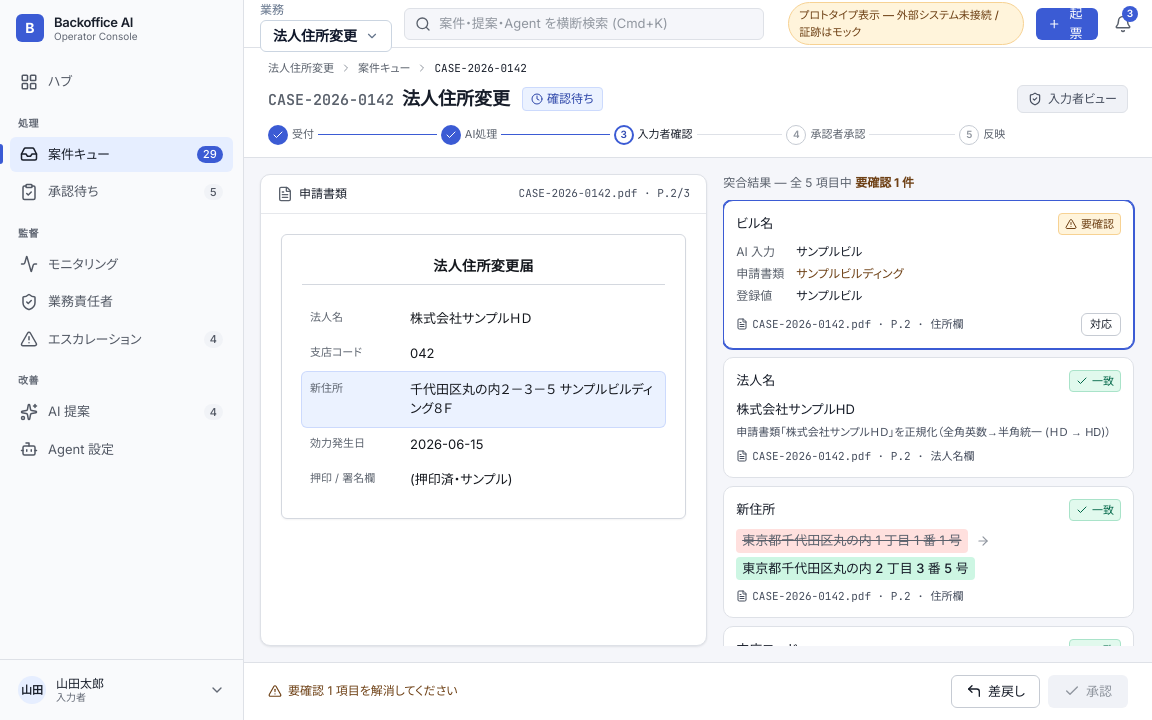
P0-W3 B1: 手入力で上書き → 確認済行が訂正値 (humanValue) を表示 › 0142 ビル名 を手入力上書き → 確認済行に訂正値が出る (AI 値でない)
// 要確認 ビル名 の「対応」で統合 modal を開く
Click the button "対応": (1101, 324) 1081,313 -> 1121,336
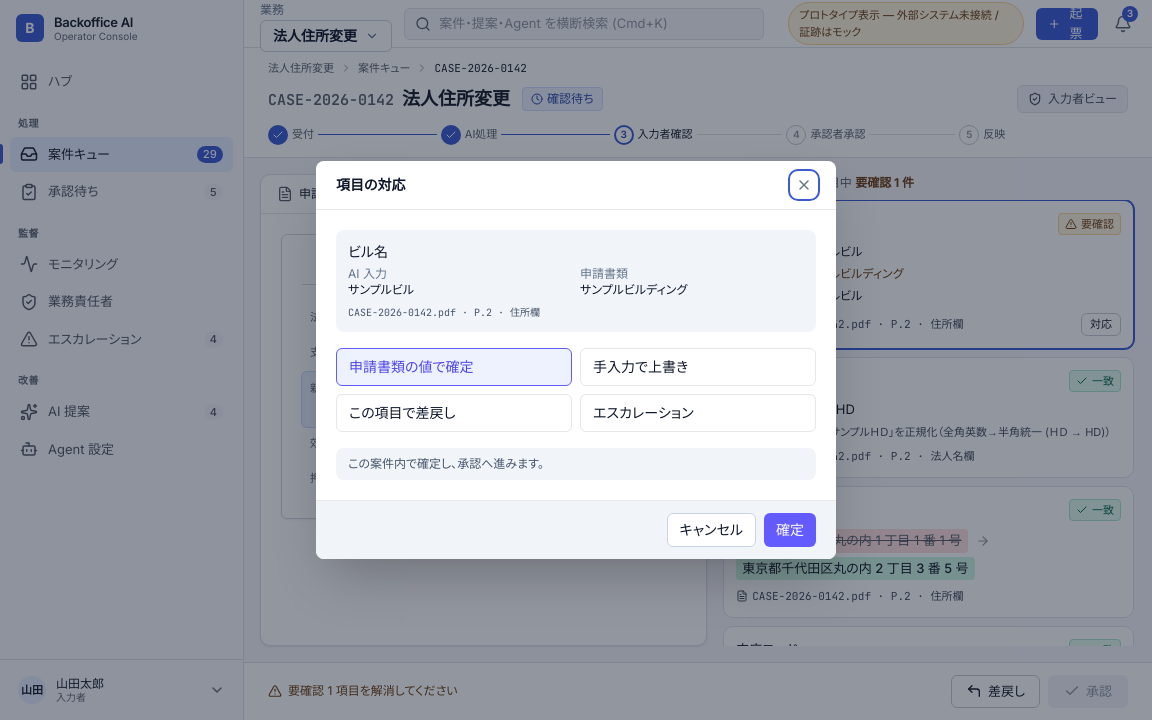
// 「手入力で上書き」→ 訂正値入力欄が出る
Click the button "手入力で上書き": (698, 367) 580,348 -> 816,386
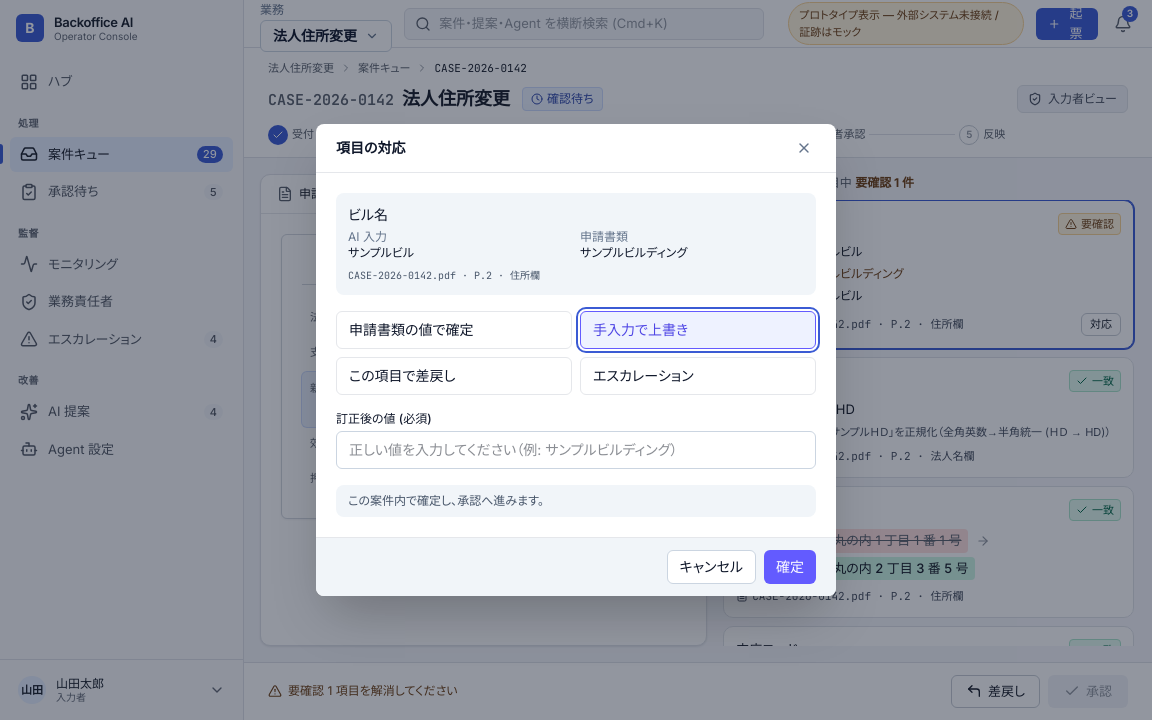
In the field labelled "訂正後の値 (必須)": (576, 450) 336,431 -> 816,469, type "丸の内ビルディング"
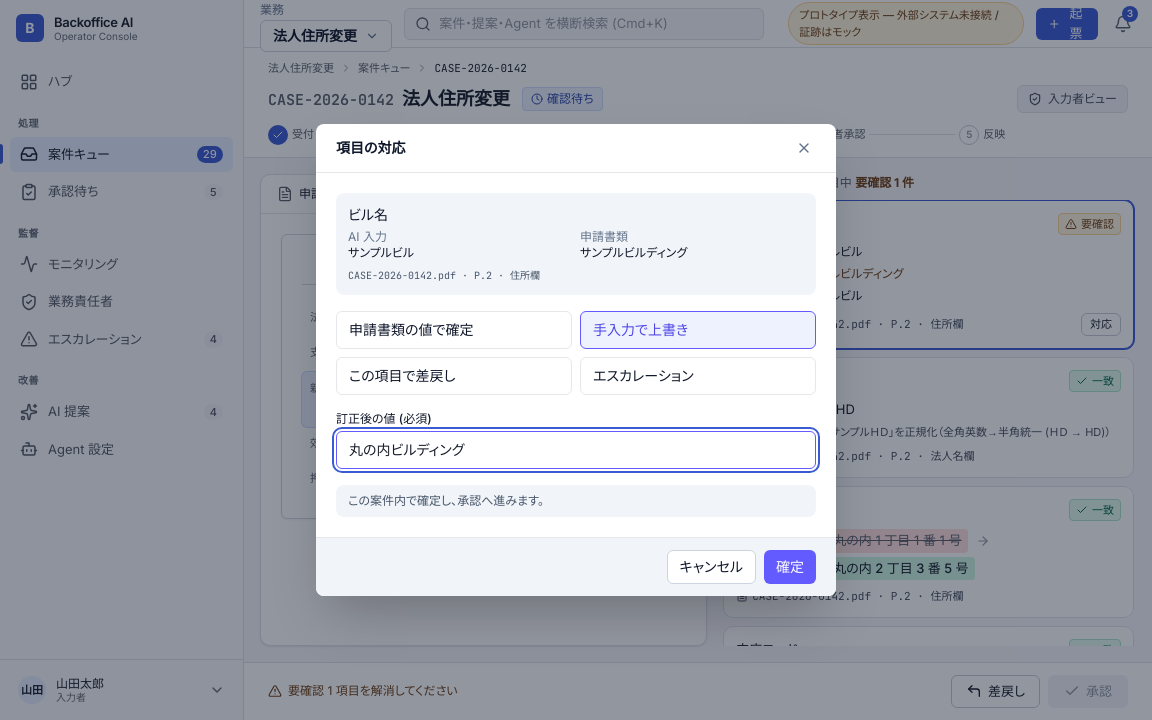
Click the button "確定": (790, 567) 764,550 -> 816,584
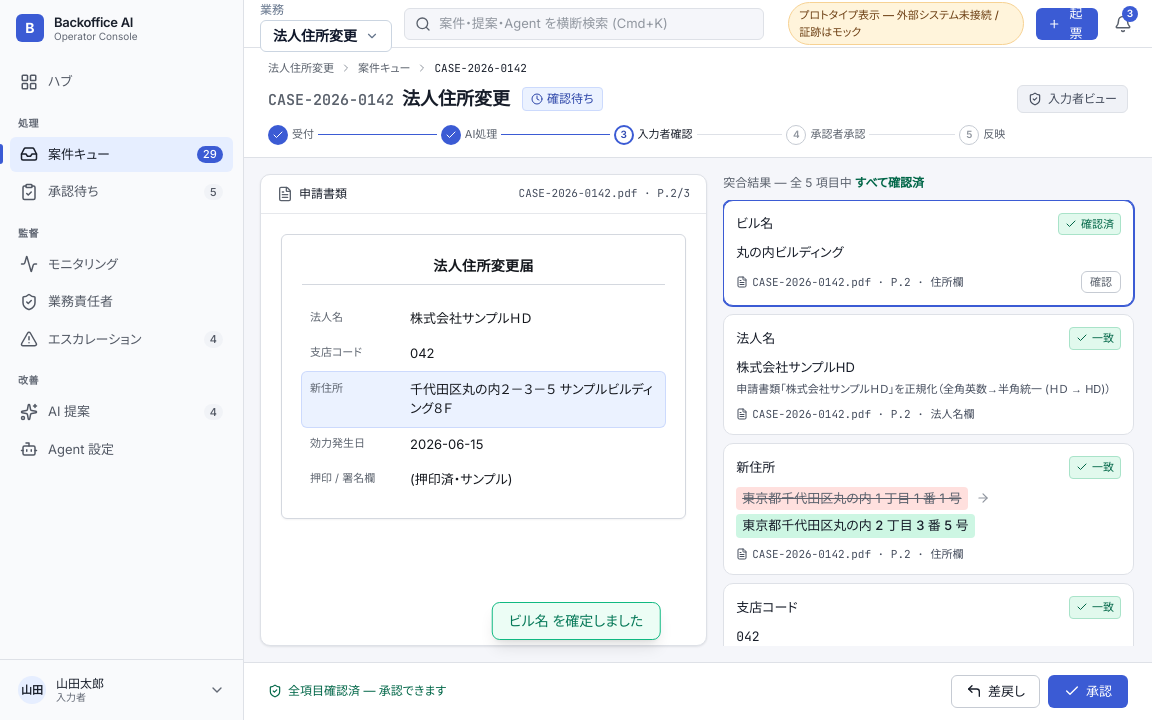
Now the text "丸の内ビルディング" is shown, box 736,244 -> 844,260
Click the button "確認": (1101, 282) 1081,270 -> 1121,293
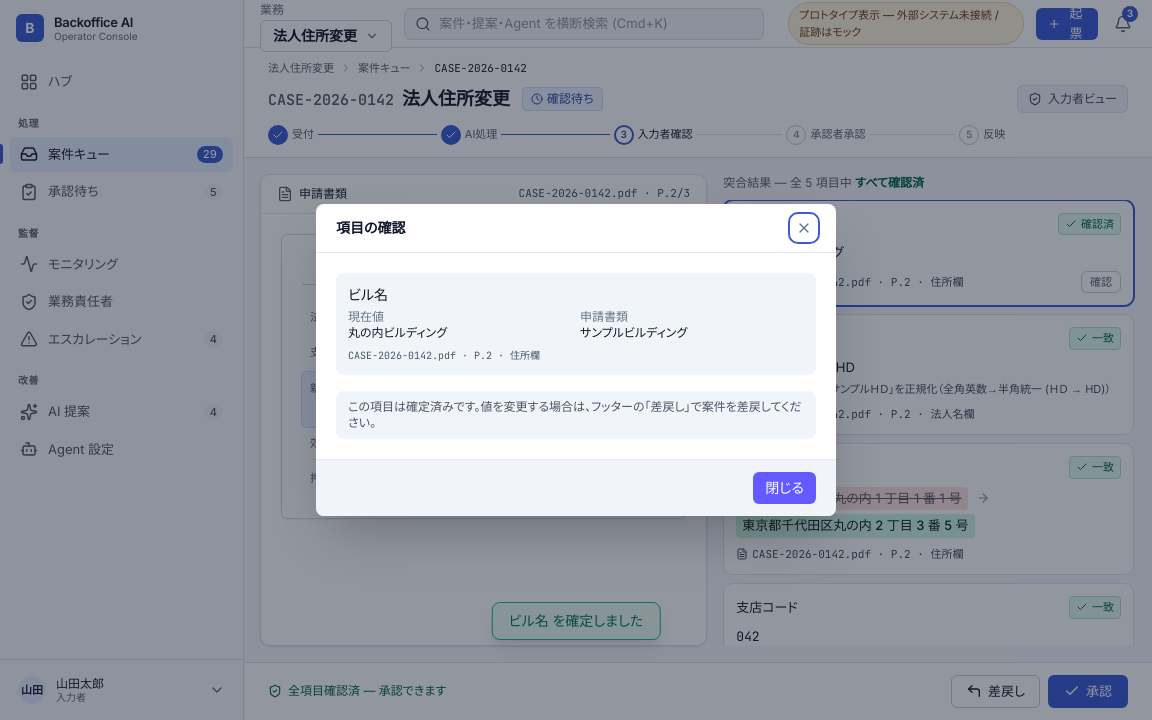
Now the heading "項目の確認" is shown, box 336,218 -> 406,238
Now the text "現在値" is shown, box 348,309 -> 384,324
